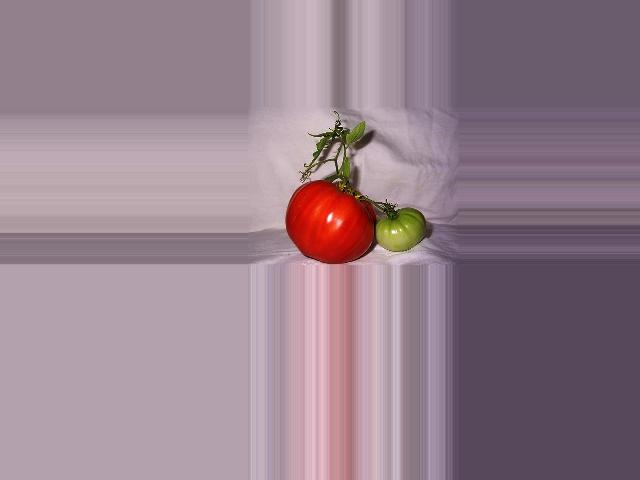tomato: (285, 180, 376, 263)
